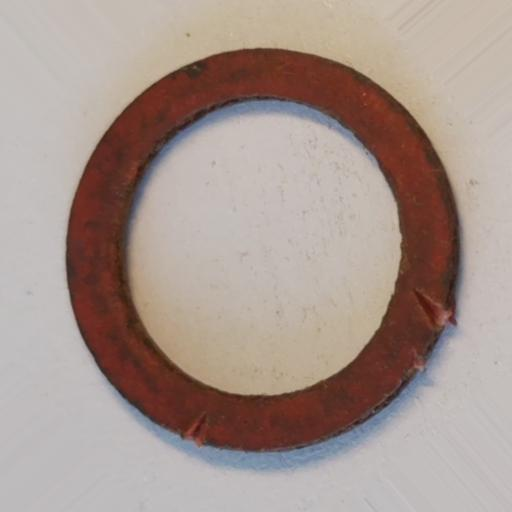defect: (413, 288, 451, 330), (183, 412, 209, 449)
